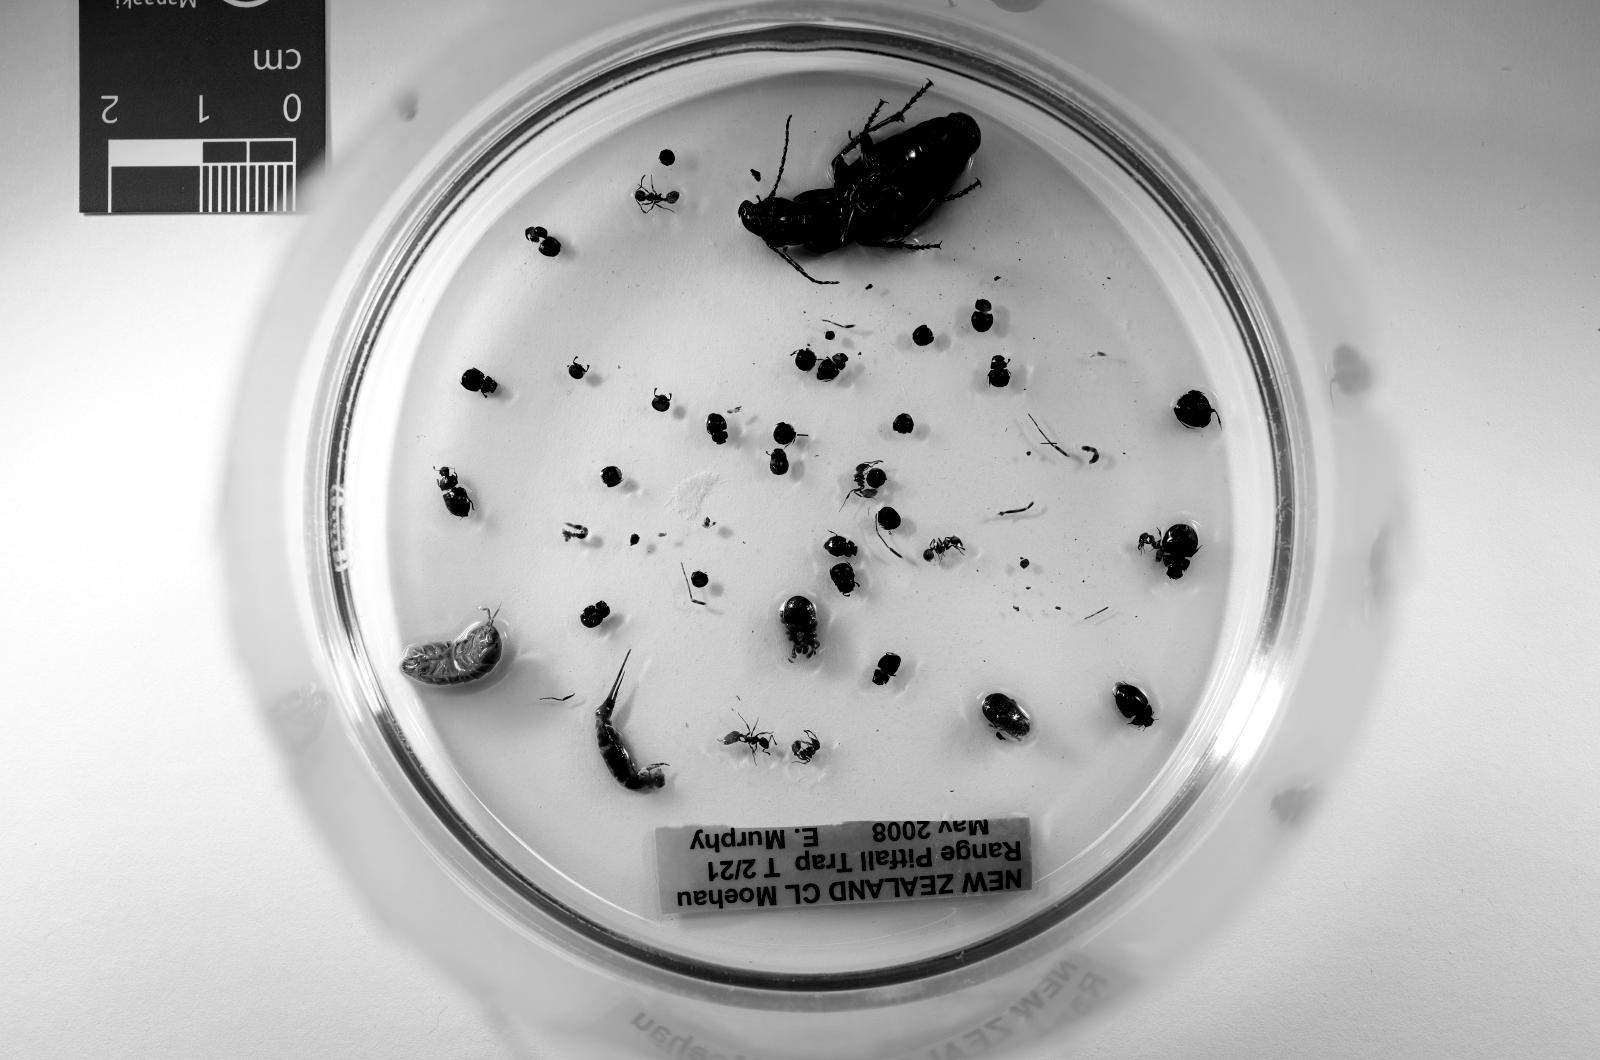archaeognatha: (597, 645, 666, 791)
carabidae: (738, 80, 982, 286)
coleoptera: (438, 466, 472, 518), (1162, 525, 1197, 577), (1115, 684, 1153, 726), (872, 652, 900, 686), (459, 369, 497, 394), (816, 354, 847, 382), (831, 562, 856, 596), (987, 354, 1010, 388), (972, 298, 993, 332), (825, 535, 856, 558), (706, 413, 728, 444), (582, 602, 609, 627), (769, 447, 791, 476)
formicidae: (721, 724, 775, 761), (634, 177, 681, 214), (925, 537, 966, 562), (853, 463, 879, 500), (791, 730, 818, 764), (1138, 535, 1162, 562)
isopoda: (403, 608, 500, 684)
opiliones: (982, 692, 1031, 742), (782, 596, 818, 661)
